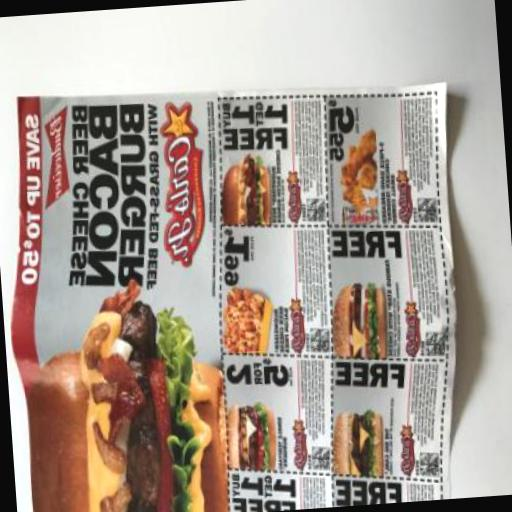paper: (0, 66, 475, 512)
